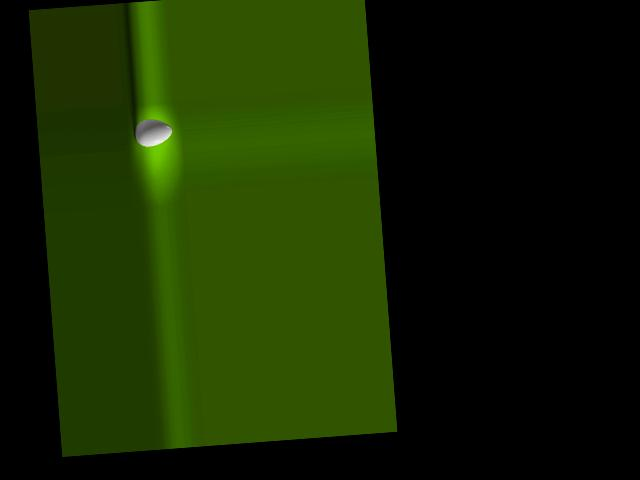egg: (133, 117, 173, 147)
